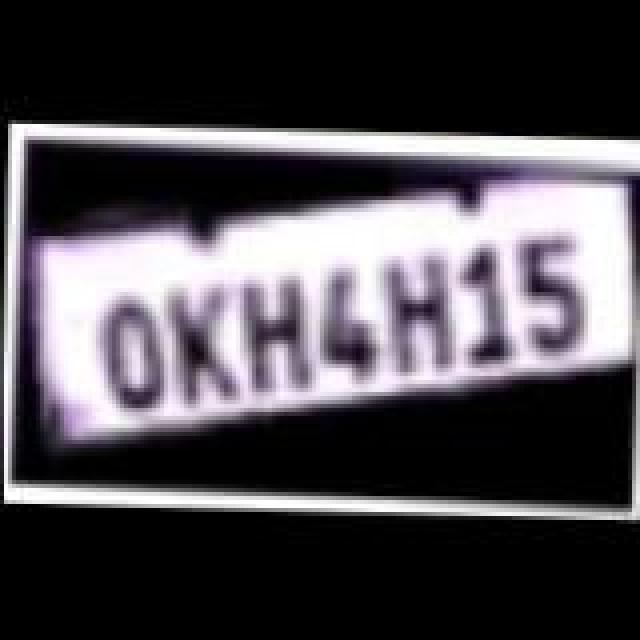1: (446, 236, 526, 364)
4: (304, 254, 388, 382)
5: (508, 224, 596, 352)
H: (370, 248, 466, 380), (232, 264, 324, 392)
K: (160, 276, 252, 408)
O: (88, 288, 176, 412)
